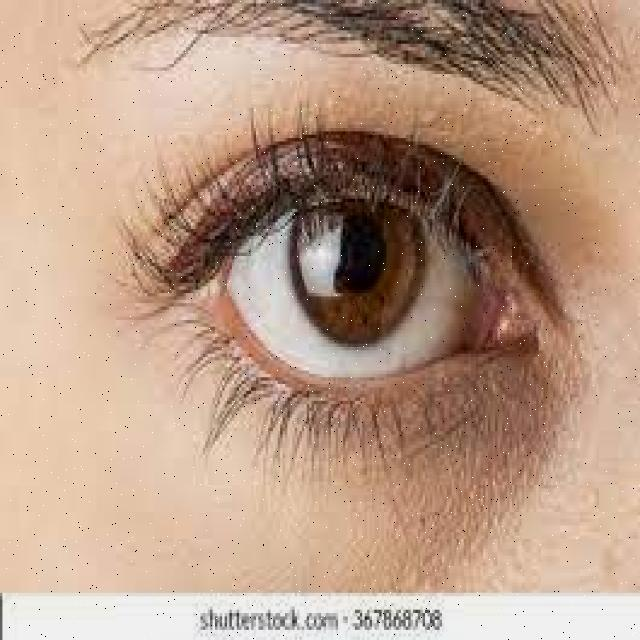Normal: (111, 98, 580, 478)
